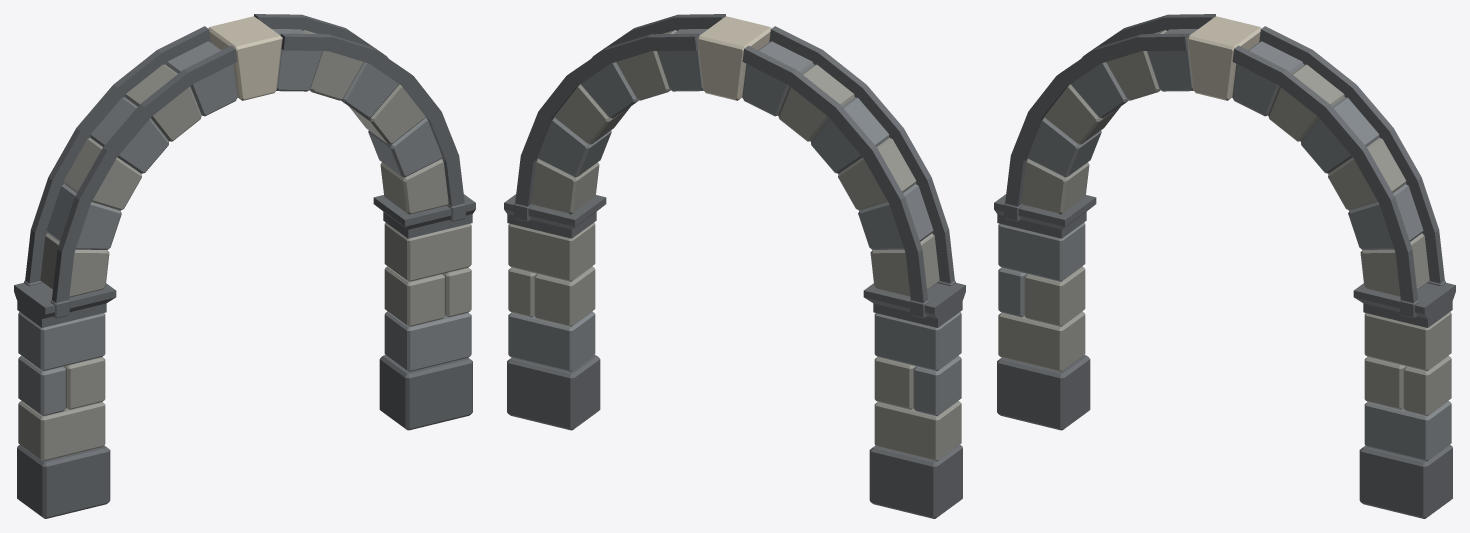
Rendered from SM_LPD_Struct_ArchFree_01.fbx.
3 renders of one model, left to right at view 1: azimuth 30°, elevation 25°; view 2: azimuth 150°, elevation 25°; view 3: azimuth 330°, elevation 25°, orthographic.
Visible parts, largest first — view 1: SM_LPD_Struct_ArchFree_01; view 2: SM_LPD_Struct_ArchFree_01; view 3: SM_LPD_Struct_ArchFree_01.
Boxes of the visible parts, x1,y1,x2,y2 form: SM_LPD_Struct_ArchFree_01: (14,14,475,518); SM_LPD_Struct_ArchFree_01: (504,14,965,518); SM_LPD_Struct_ArchFree_01: (994,14,1455,518).
Size of the model in its own units: 4 by 3.79 by 0.52.
